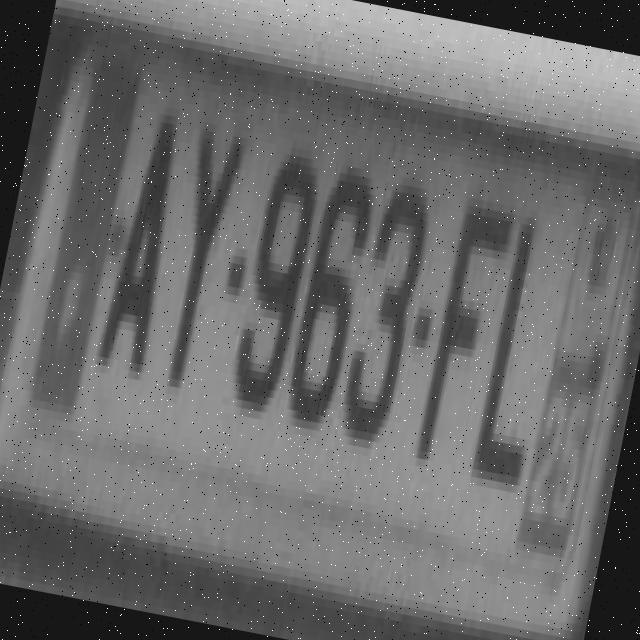EU: (10, 39, 640, 591)
France: (31, 36, 148, 420)
